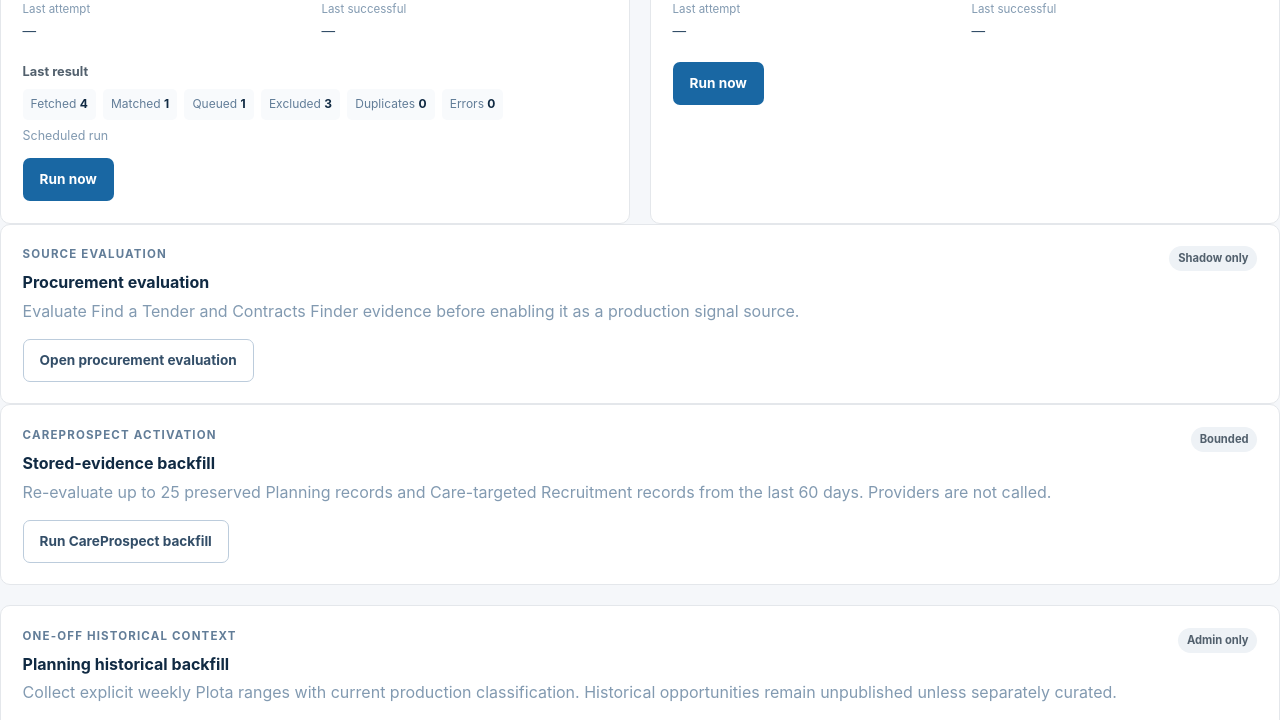
admin frontend › shows collector status and starts a bounded manual source run
This screenshot has width=1280, height=720.
(page scrolled)
Click the button "Open procurement evaluation". click: click(138, 360)
box: top-left (23, 339), bottom-right (254, 382)
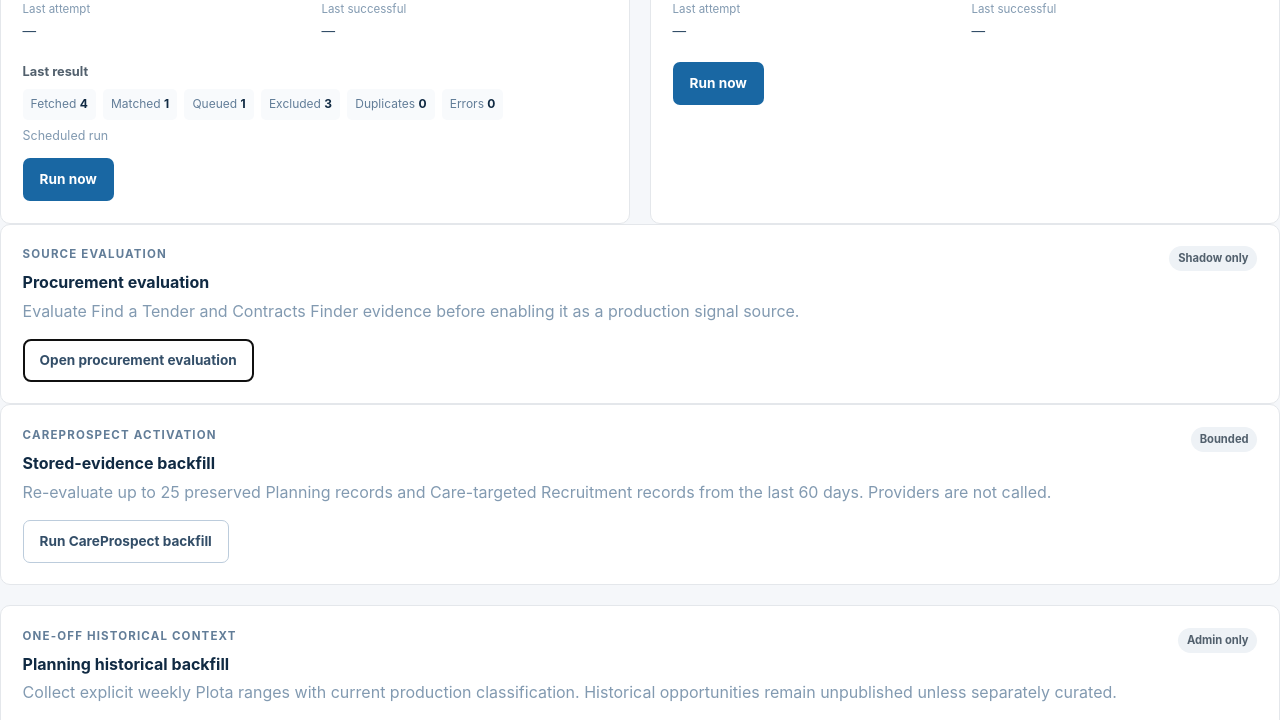
Click the button "Run now" below "Scheduled". click: click(68, 180)
box: top-left (23, 158), bottom-right (114, 201)
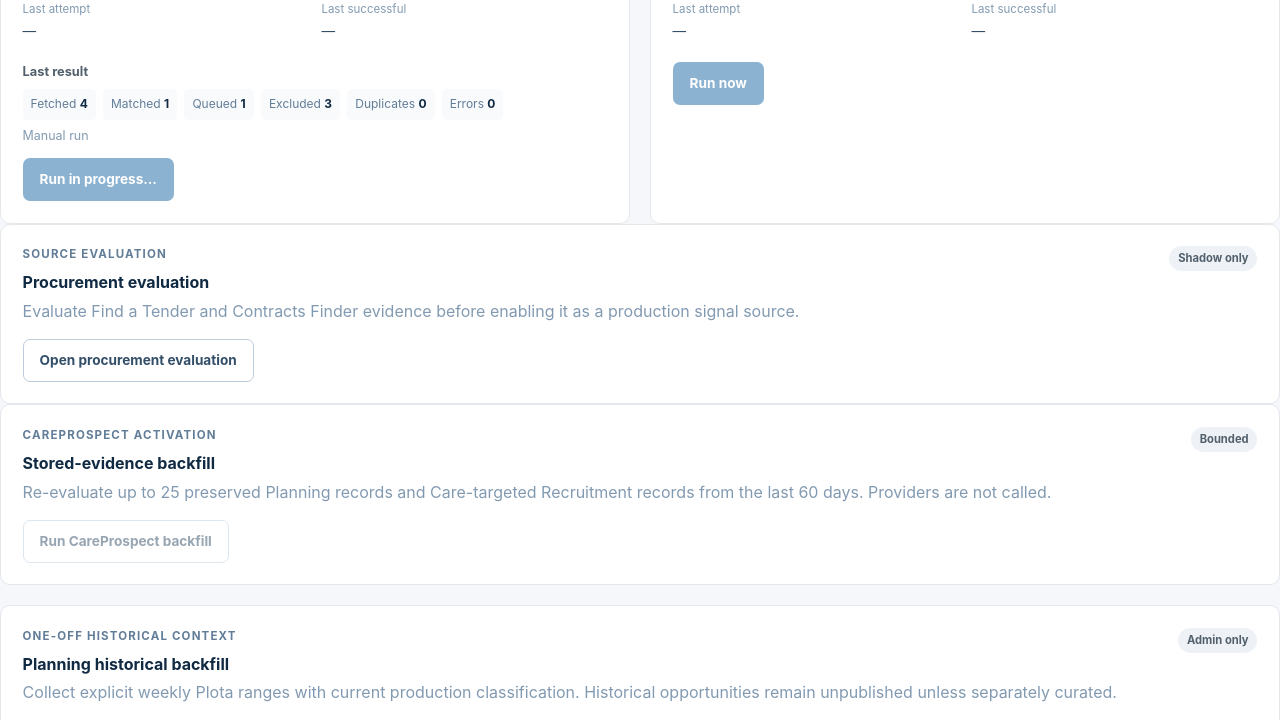
Expected: the button "Run in progress…" is shown, top-left (23, 158), bottom-right (174, 201)
